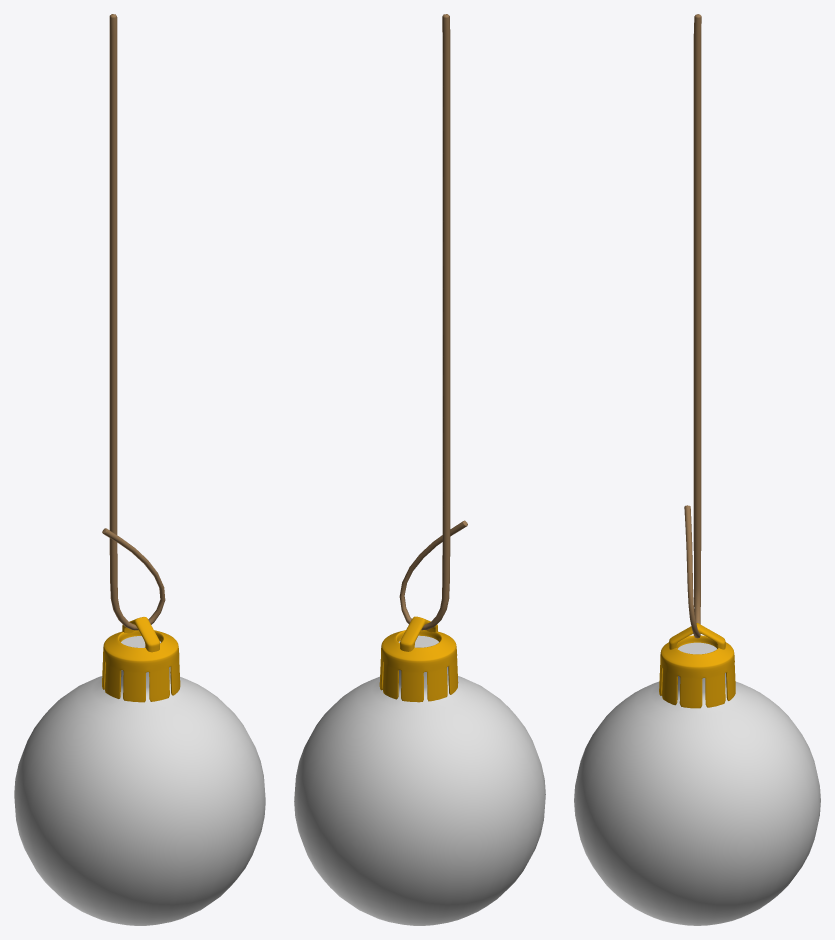
File: decoration_christmasballs_hanging.fbx
3 renders of one model, left to right at view 1: azimuth 30°, elevation 25°; view 2: azimuth 150°, elevation 25°; view 3: azimuth 270°, elevation 25°, orthographic. The views are drawn at different scales.
Parts seen in each view (by area): view 1: decoration_christmasballs_hanging; view 2: decoration_christmasballs_hanging; view 3: decoration_christmasballs_hanging.
Part boxes in pixels (x1,y1,x2,y2): decoration_christmasballs_hanging: (14, 14, 265, 925); decoration_christmasballs_hanging: (294, 14, 545, 925); decoration_christmasballs_hanging: (574, 14, 820, 925).
Size of the model in its own units: 7.91 by 31.38 by 7.91.
